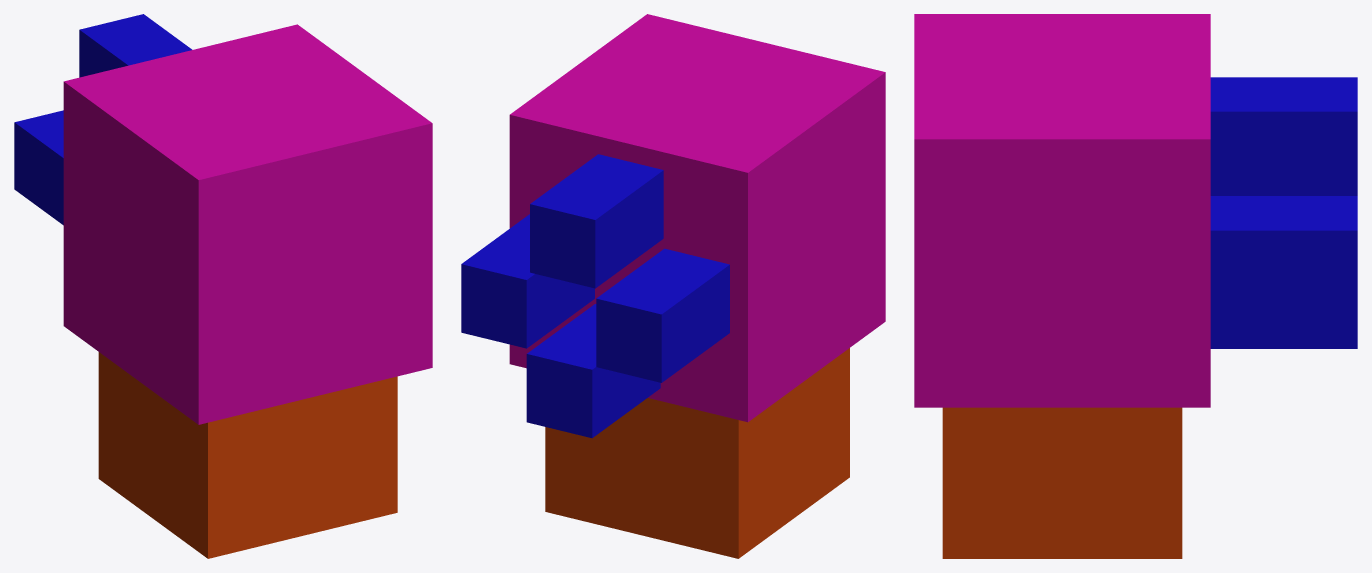
Rendered from Turret_Minigun.obj.
3 views of the same model, side by side, from view 1: azimuth 30°, elevation 25°; view 2: azimuth 150°, elevation 25°; view 3: azimuth 270°, elevation 25° (orthographic). The views are drawn at different scales.
Parts seen in each view (by area): view 1: Cube.001, Cube, Cube.003, Cube.005; view 2: Cube.001, Cube, Cube.003, Cube.005, Cube.002, Cube.004; view 3: Cube.001, Cube, Cube.005, Cube.002, Cube.004, Cube.003.
Part boxes in pixels (x1,y1,x2,y2): Cube.001: [63, 24, 432, 424]; Cube: [98, 352, 397, 558]; Cube.003: [14, 110, 63, 225]; Cube.005: [79, 14, 192, 77]; Cube.001: [509, 14, 885, 422]; Cube: [545, 348, 849, 558]; Cube.003: [596, 248, 729, 382]; Cube.005: [530, 154, 663, 288]; Cube.002: [461, 214, 594, 348]; Cube.004: [526, 304, 660, 438]; Cube.001: [914, 14, 1210, 407]; Cube: [942, 407, 1182, 558]; Cube.005: [1210, 77, 1357, 185]; Cube.002: [1210, 196, 1357, 304]; Cube.004: [1210, 304, 1357, 348]; Cube.003: [1210, 185, 1357, 195].
Size of the model in its own units: 0.8015 by 1.29 by 1.2.
